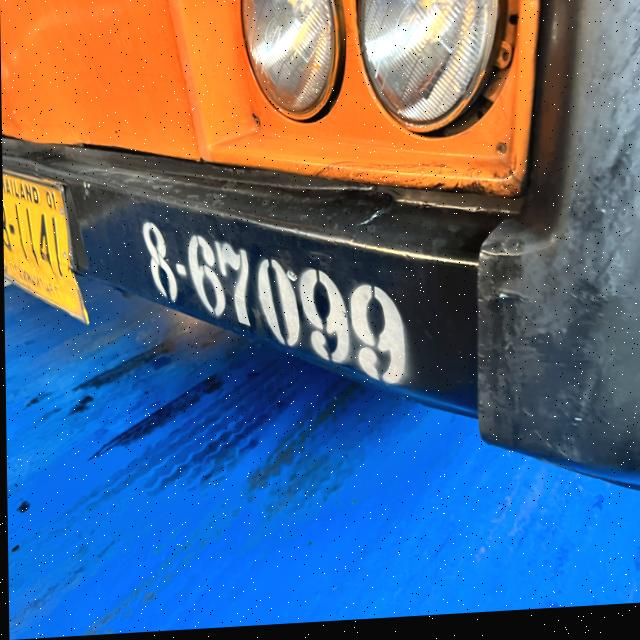BMTA-bus: (0, 0, 640, 539)
